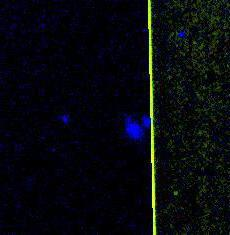star: (164, 175, 194, 205)
